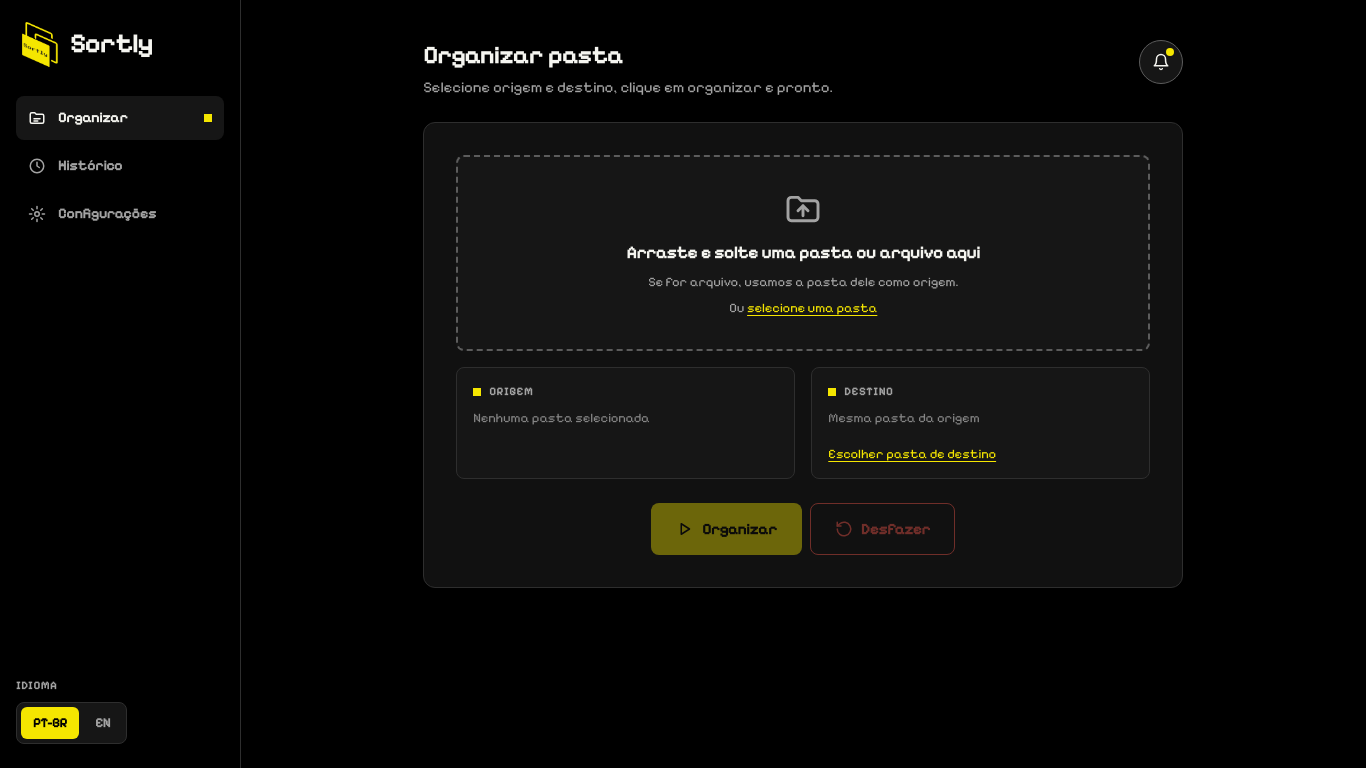
Scenario: OrganizerView › abrir o painel marca como lidas; fechar pelo sino não marca de novo
This screenshot has width=1366, height=768.
Click the button named "Notificações". click: (1161, 62)
box: [1139,40,1183,84]
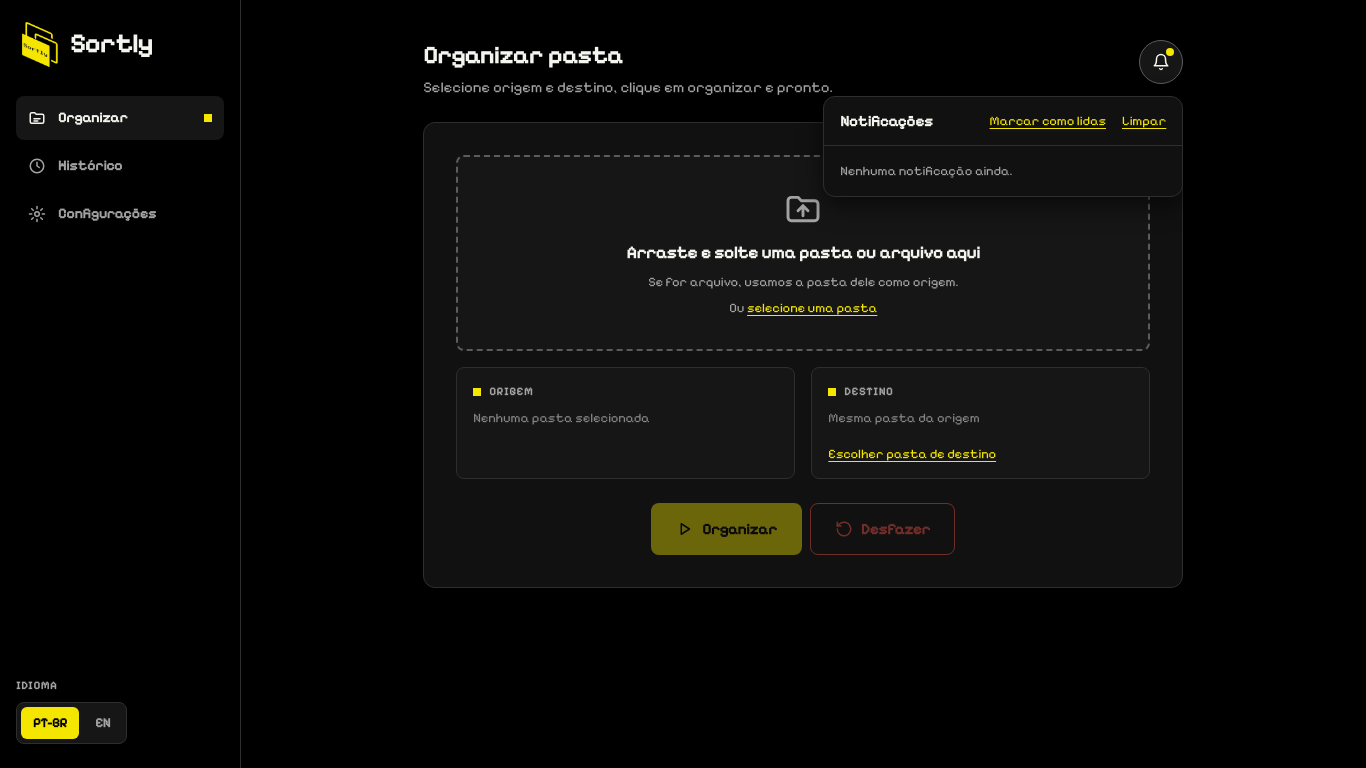
Click the button named "Notificações". click: (1161, 62)
box: [1139,40,1183,84]
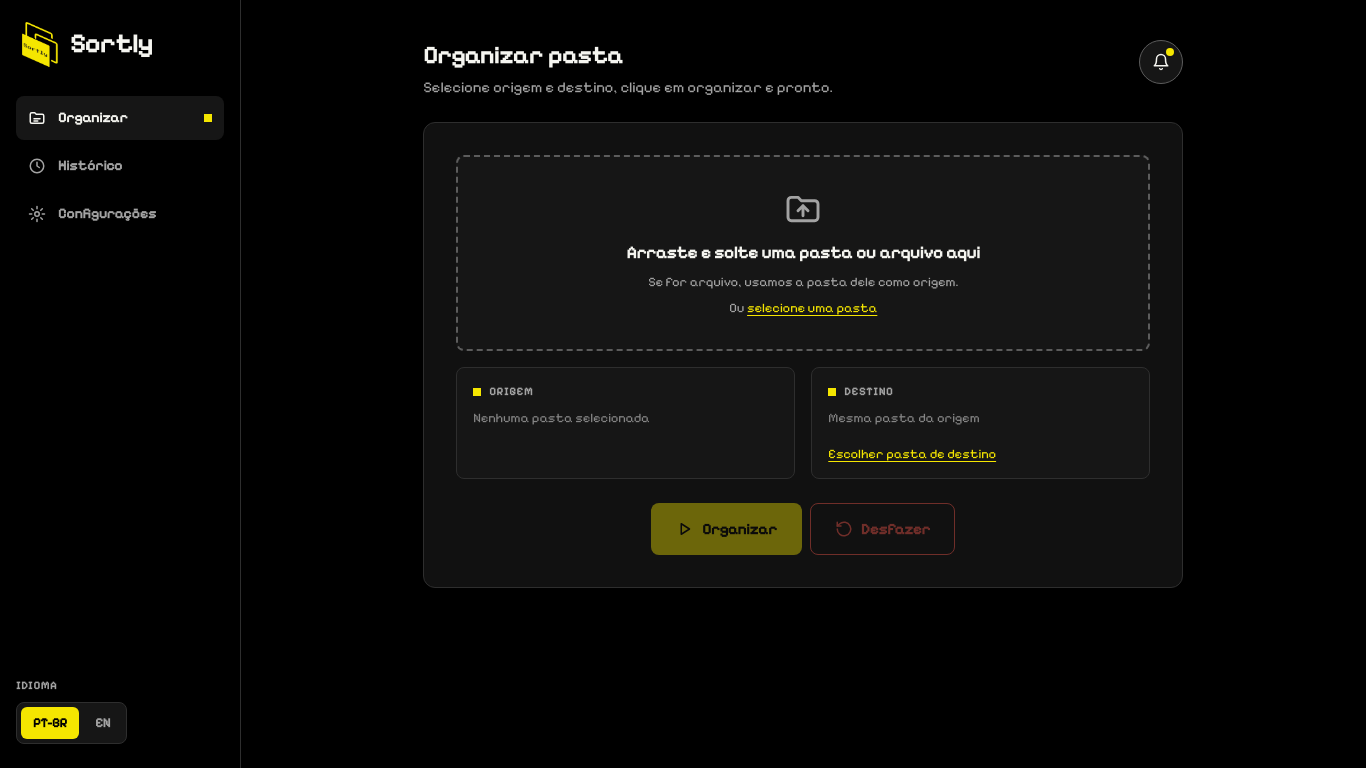
Check: the dialog is gone
